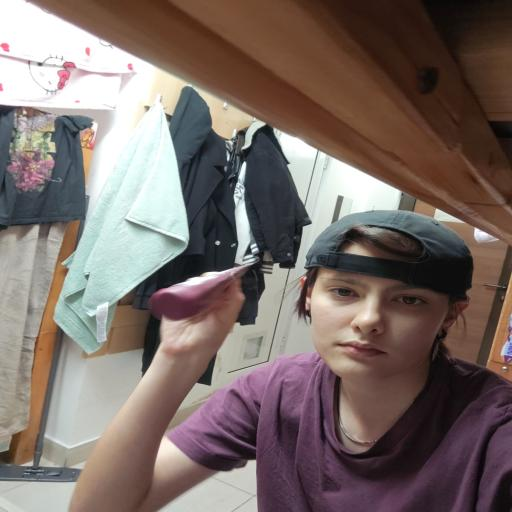Crema Maini: (146, 260, 248, 316)
